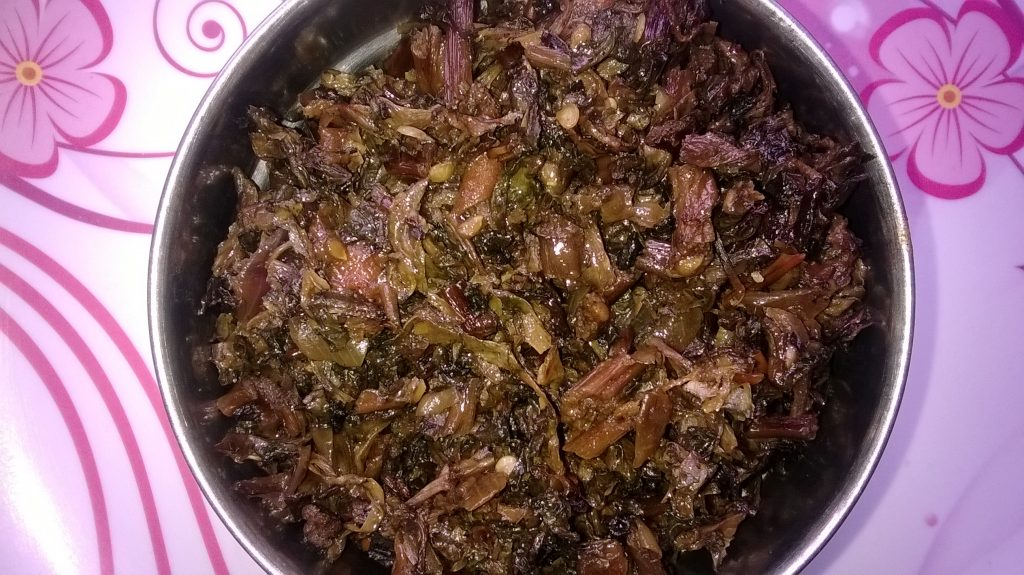gundruk: (218, 23, 815, 556)
